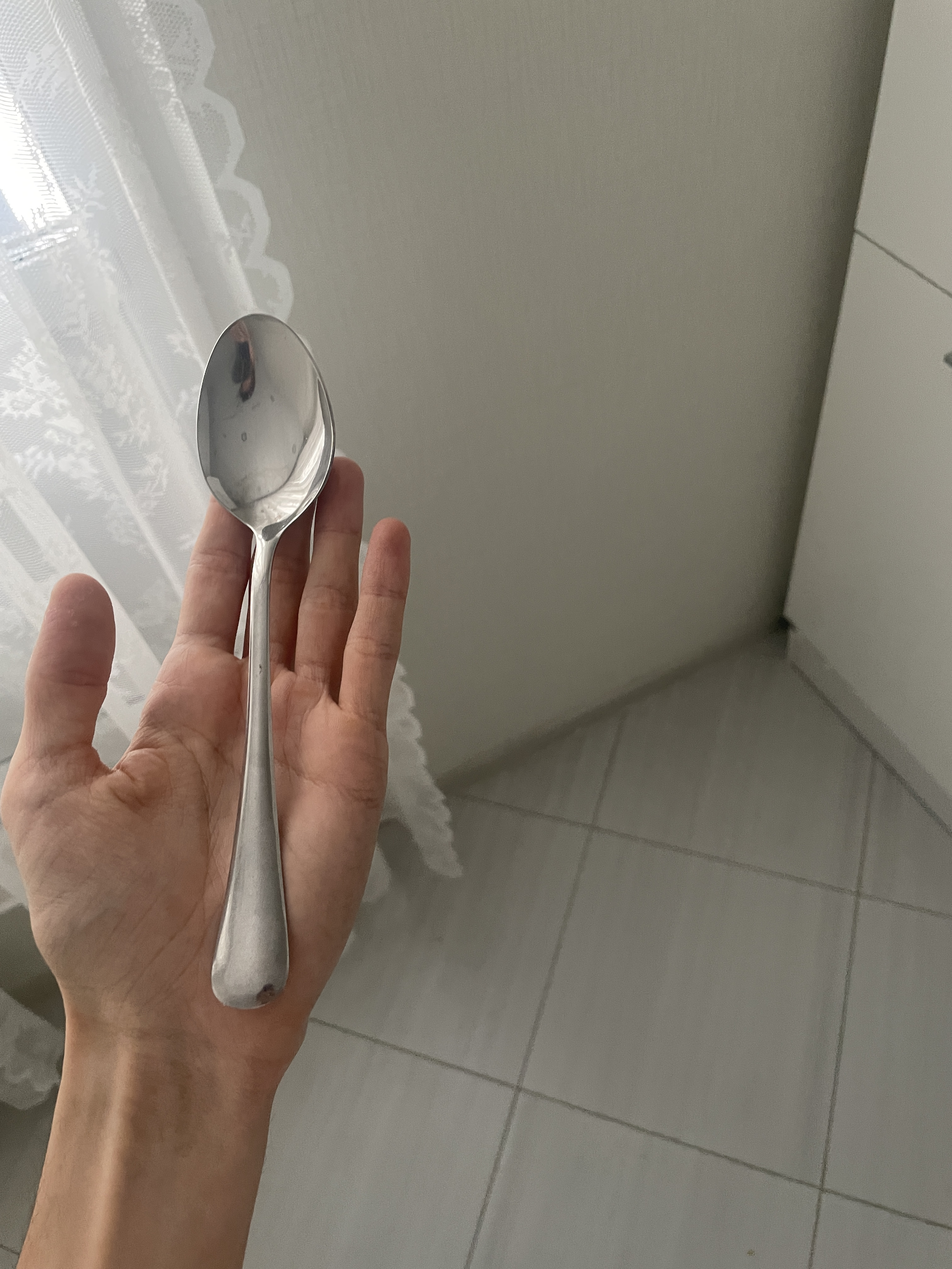spoon: (197, 313, 334, 1007)
